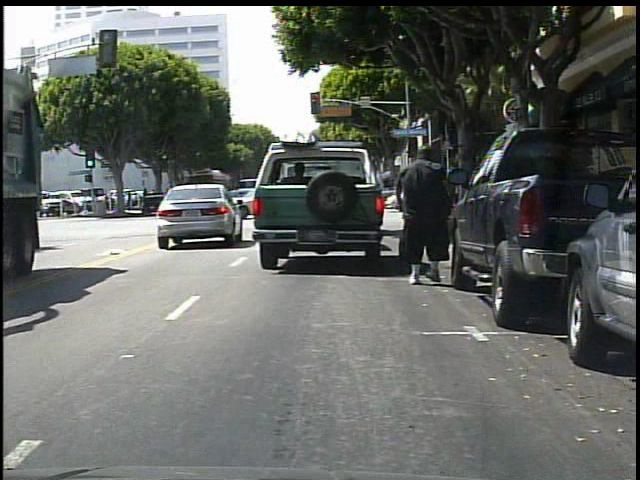person: (398, 144, 456, 289)
